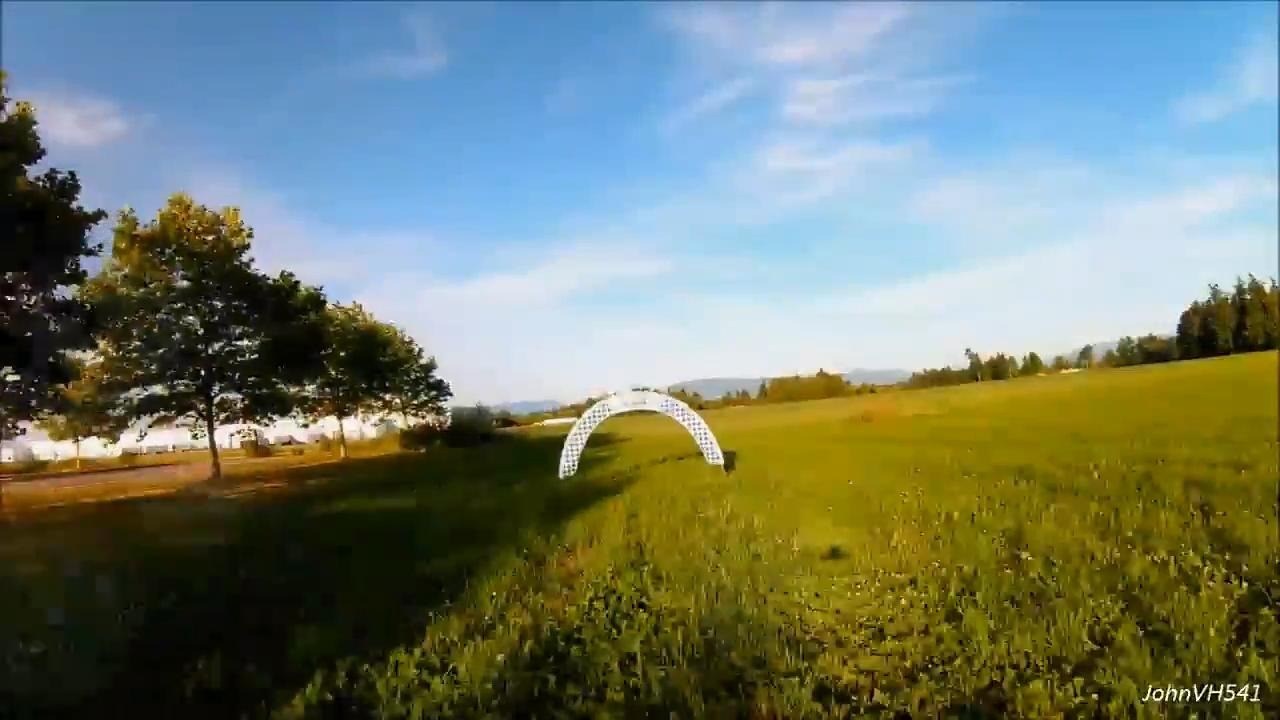gate: (555, 392, 729, 476)
